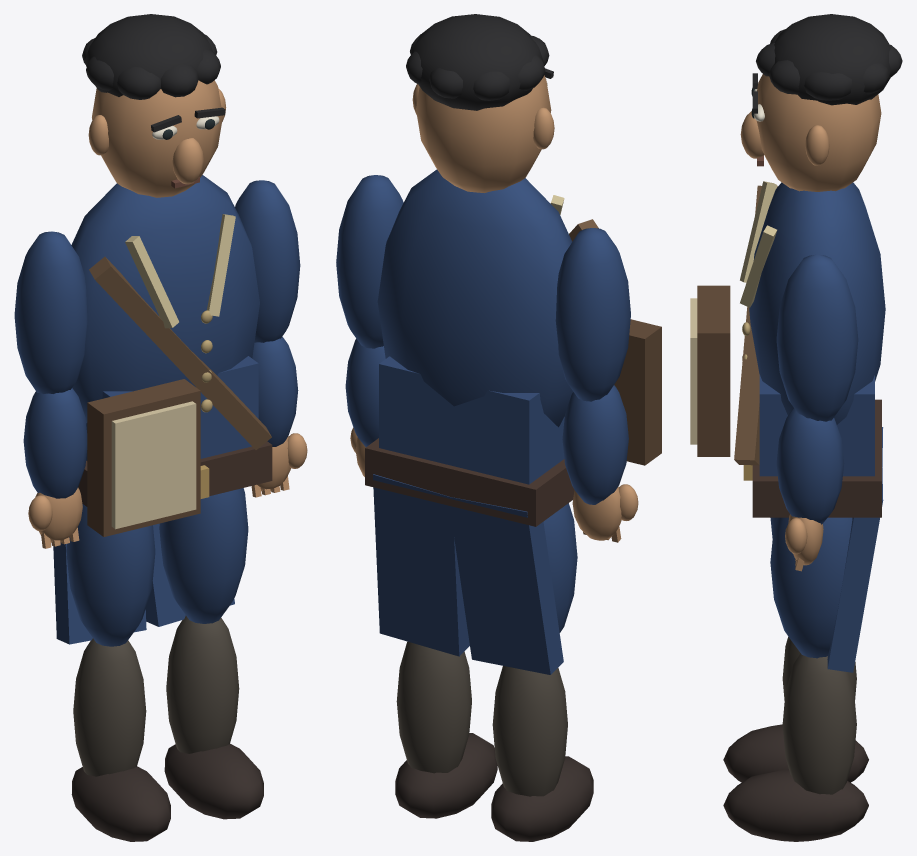
Rendered from elsecaller.glb.
3 views of the same model, side by side, from view 1: azimuth 30°, elevation 25°; view 2: azimuth 150°, elevation 25°; view 3: azimuth 270°, elevation 25° (orthographic). The views are drawn at different scales.
Visible parts, largest first — view 1: radiant_6_stone, shin_and_foot_stone (×2), face_and_hair_stone, thigh_stone (×2), upper_arm_stone (×2), order_equipment_stone, forearm_and_fingers_stone (×2), split_cloth_stone, radiant_6_metal; view 2: radiant_6_stone, split_cloth_stone, shin_and_foot_stone (×2), face_and_hair_stone, upper_arm_stone (×2), forearm_and_fingers_stone (×2), order_equipment_stone, thigh_stone; view 3: radiant_6_stone, face_and_hair_stone, shin_and_foot_stone (×2), upper_arm_stone, forearm_and_fingers_stone, thigh_stone, order_equipment_stone, split_cloth_stone.
Part boxes in pixels (box(x1,y1,x2,y2)): radiant_6_stone: box(71, 175, 272, 506); shin_and_foot_stone (×2): box(71, 615, 263, 841); face_and_hair_stone: box(82, 14, 226, 197); thigh_stone (×2): box(66, 488, 248, 646); upper_arm_stone (×2): box(14, 180, 300, 393); order_equipment_stone: box(87, 379, 200, 536); forearm_and_fingers_stone (×2): box(23, 336, 307, 548); split_cloth_stone: box(53, 523, 234, 644); radiant_6_metal: box(200, 310, 212, 498); radiant_6_stone: box(365, 169, 598, 526); split_cloth_stone: box(373, 474, 563, 674); shin_and_foot_stone (×2): box(395, 641, 593, 841); face_and_hair_stone: box(406, 14, 554, 192); upper_arm_stone (×2): box(336, 175, 630, 401); forearm_and_fingers_stone (×2): box(345, 338, 638, 542); order_equipment_stone: box(614, 319, 661, 465); thigh_stone: box(543, 503, 577, 632); radiant_6_stone: box(734, 181, 885, 517); face_and_hair_stone: box(740, 14, 902, 191); shin_and_foot_stone (×2): box(723, 637, 868, 841); upper_arm_stone: box(776, 254, 858, 421); forearm_and_fingers_stone: box(776, 408, 844, 571); thigh_stone: box(770, 517, 852, 658); order_equipment_stone: box(690, 285, 730, 456); split_cloth_stone: box(827, 427, 883, 672).
Bounding box in the file's own units: 0.684 × 1.86 × 0.451.
